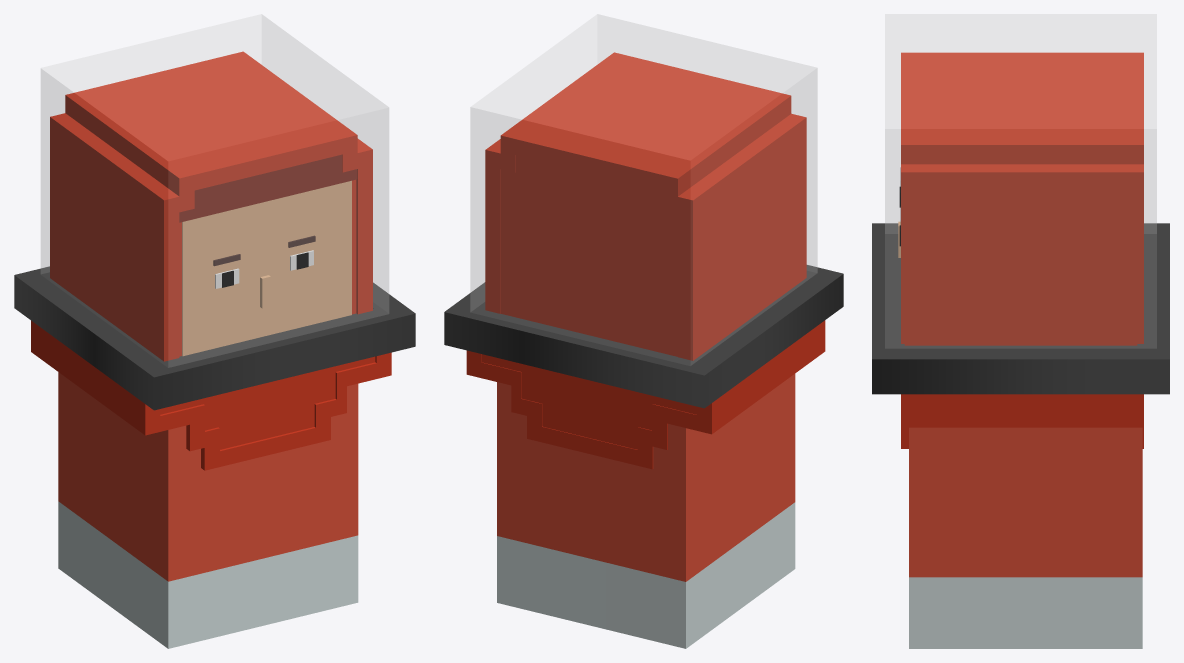
The picture shows the model from 3 angles, left to right: view 1: azimuth 30°, elevation 25°; view 2: azimuth 150°, elevation 25°; view 3: azimuth 270°, elevation 25°; orthographic projection. The views are drawn at different scales.
Parts seen in each view (by area): view 1: Rectangle012, Line011, Box070, Object004, Rectangle011, Line012, Line013; view 2: Rectangle012, Line011, Box070, Line012, Rectangle011; view 3: Rectangle012, Line011, Box070, Rectangle011.
Part boxes in pixels (left/top/right/bottom): Rectangle012: left=41, top=14, right=388, bottom=367; Line011: left=31, top=51, right=391, bottom=470; Box070: left=58, top=372, right=358, bottom=648; Object004: left=182, top=180, right=351, bottom=356; Rectangle011: left=14, top=266, right=415, bottom=410; Line012: left=160, top=179, right=375, bottom=449; Line013: left=179, top=154, right=357, bottom=222; Rectangle012: left=470, top=14, right=817, bottom=365; Line011: left=466, top=52, right=825, bottom=469; Box070: left=497, top=374, right=795, bottom=648; Line012: left=482, top=155, right=696, bottom=449; Rectangle011: left=444, top=265, right=843, bottom=408; Rectangle012: left=885, top=14, right=1156, bottom=347; Line011: left=901, top=52, right=1143, bottom=448; Box070: left=909, top=427, right=1142, bottom=648; Rectangle011: left=872, top=223, right=1169, bottom=394.
Bounding box in the file's own units: 0.0275 × 0.05 × 0.0254.
